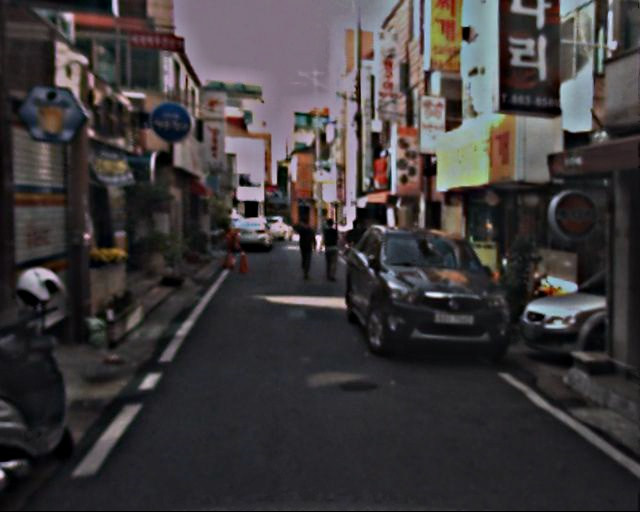person: (341, 218, 369, 287), (316, 216, 343, 282), (293, 218, 318, 278)
